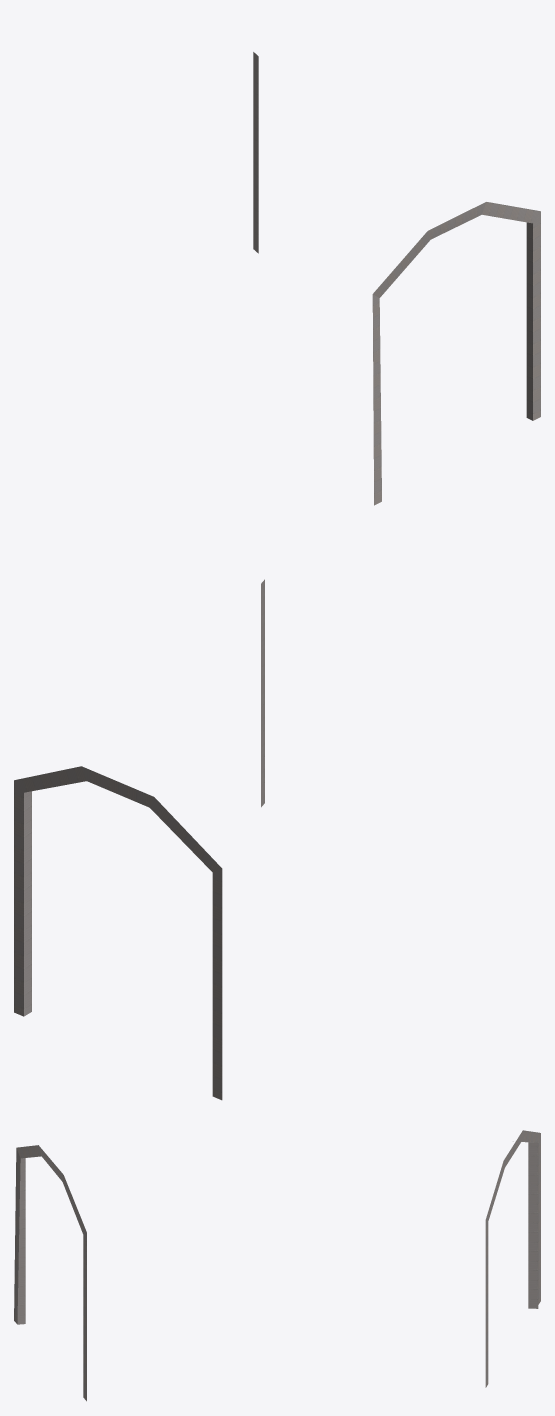
The model's file is kd_stage_136282_5_17_bounded.glb.
3 renders of one model, top to bottom at view 1: azimuth 30°, elevation 25°; view 2: azimuth 150°, elevation 25°; view 3: azimuth 270°, elevation 25°, orthographic. The views are drawn at different scales.
Parts seen in each view (by area): view 1: kd_stage_136282_5_17_bounded; view 2: kd_stage_136282_5_17_bounded; view 3: kd_stage_136282_5_17_bounded.
Part boxes in pixels (<box>): kd_stage_136282_5_17_bounded: <box>253,52,540,505</box>; kd_stage_136282_5_17_bounded: <box>14,579,264,1100</box>; kd_stage_136282_5_17_bounded: <box>14,1130,540,1401</box>.
Size of the model in its own units: 11.69 by 11 by 25.88.
1 material, 1 textured.
